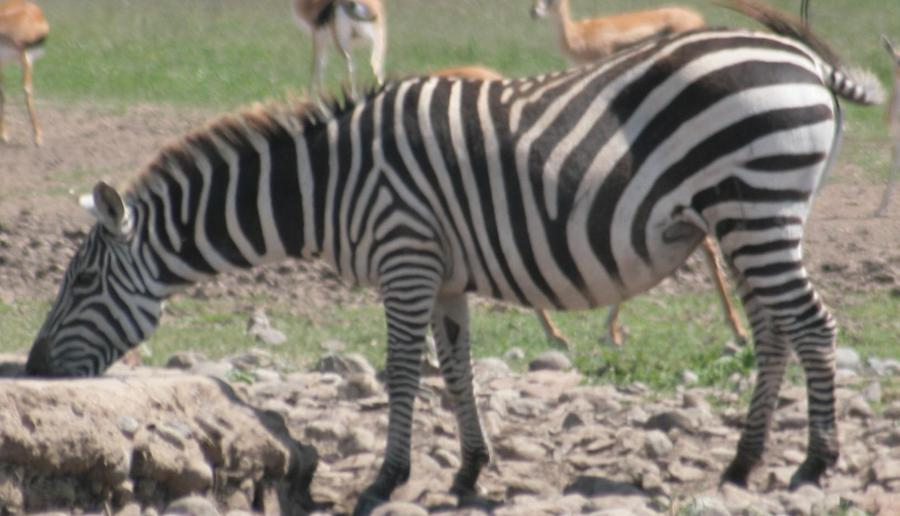zebra_plains: (292, 41, 863, 301)
